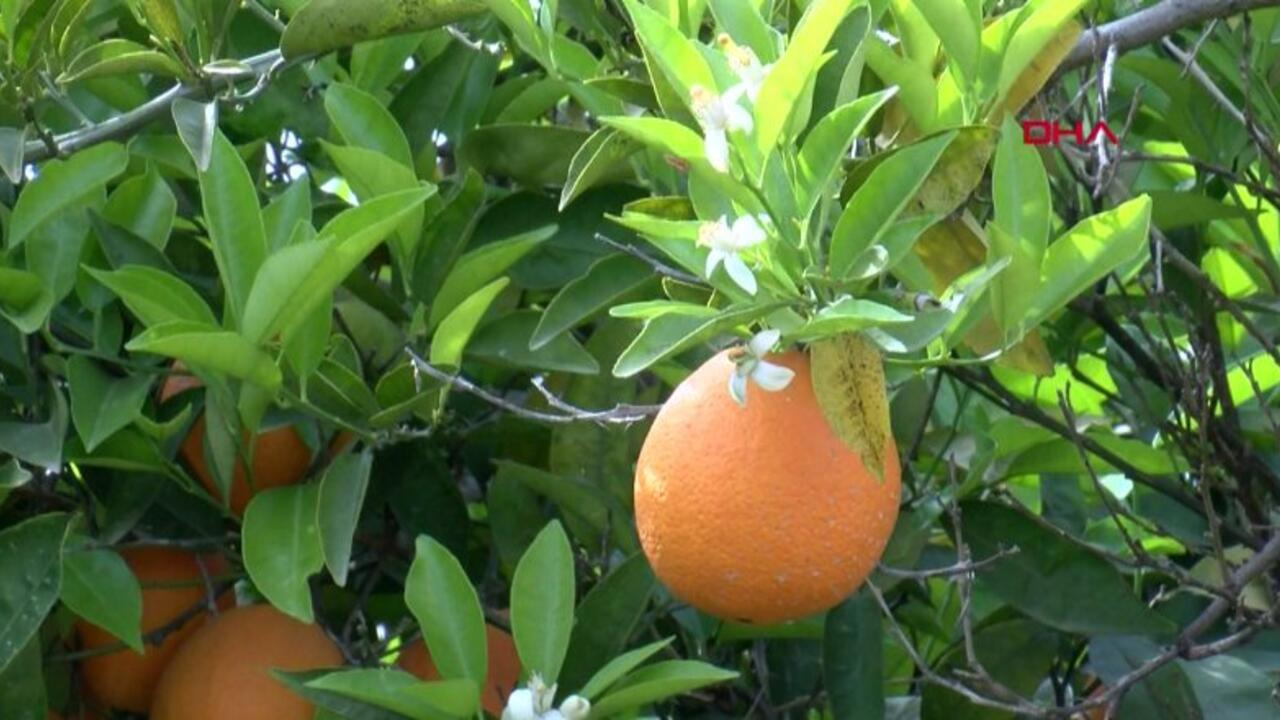portakal: (575, 294, 1043, 643)
